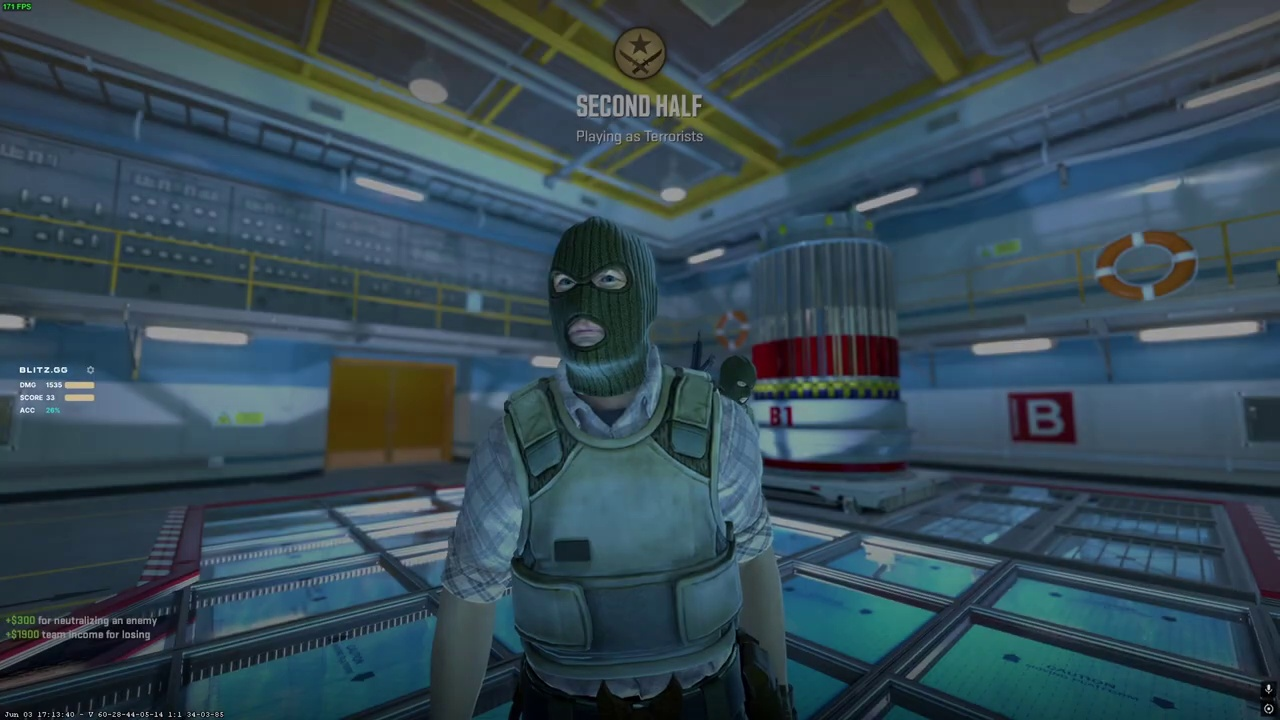Terrorist: (438, 217, 809, 720)
